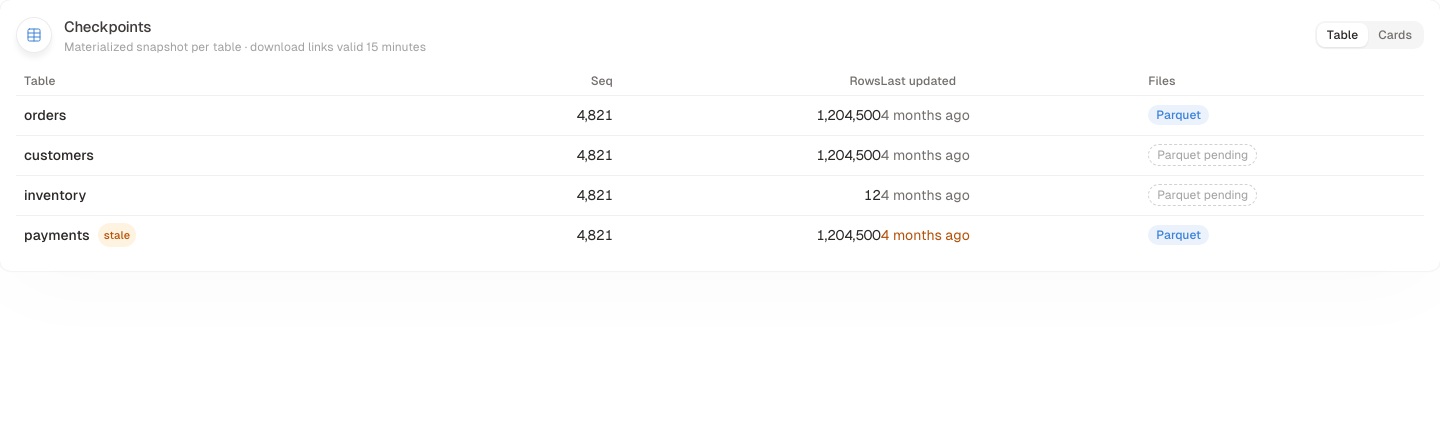
Scenario: CheckpointsCard (F7) › switches to the cards view with the relative-weight bar
Click the tab "cards" at (1395,35), box [1368,23,1422,47]
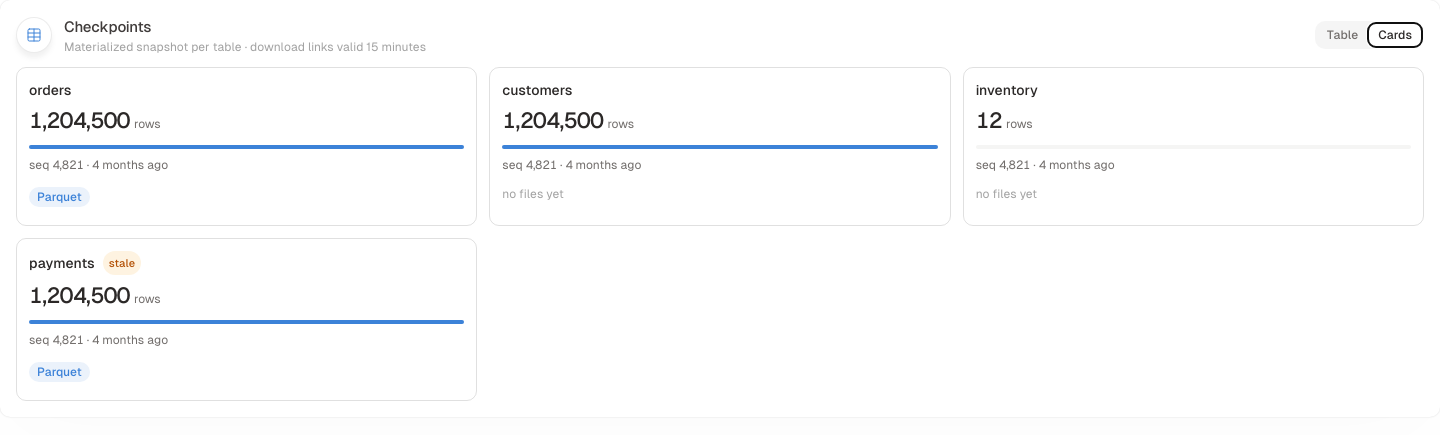
Expected: the text "no files yet" is shown 2 times, [502,186,564,200]; [976,186,1037,200]
